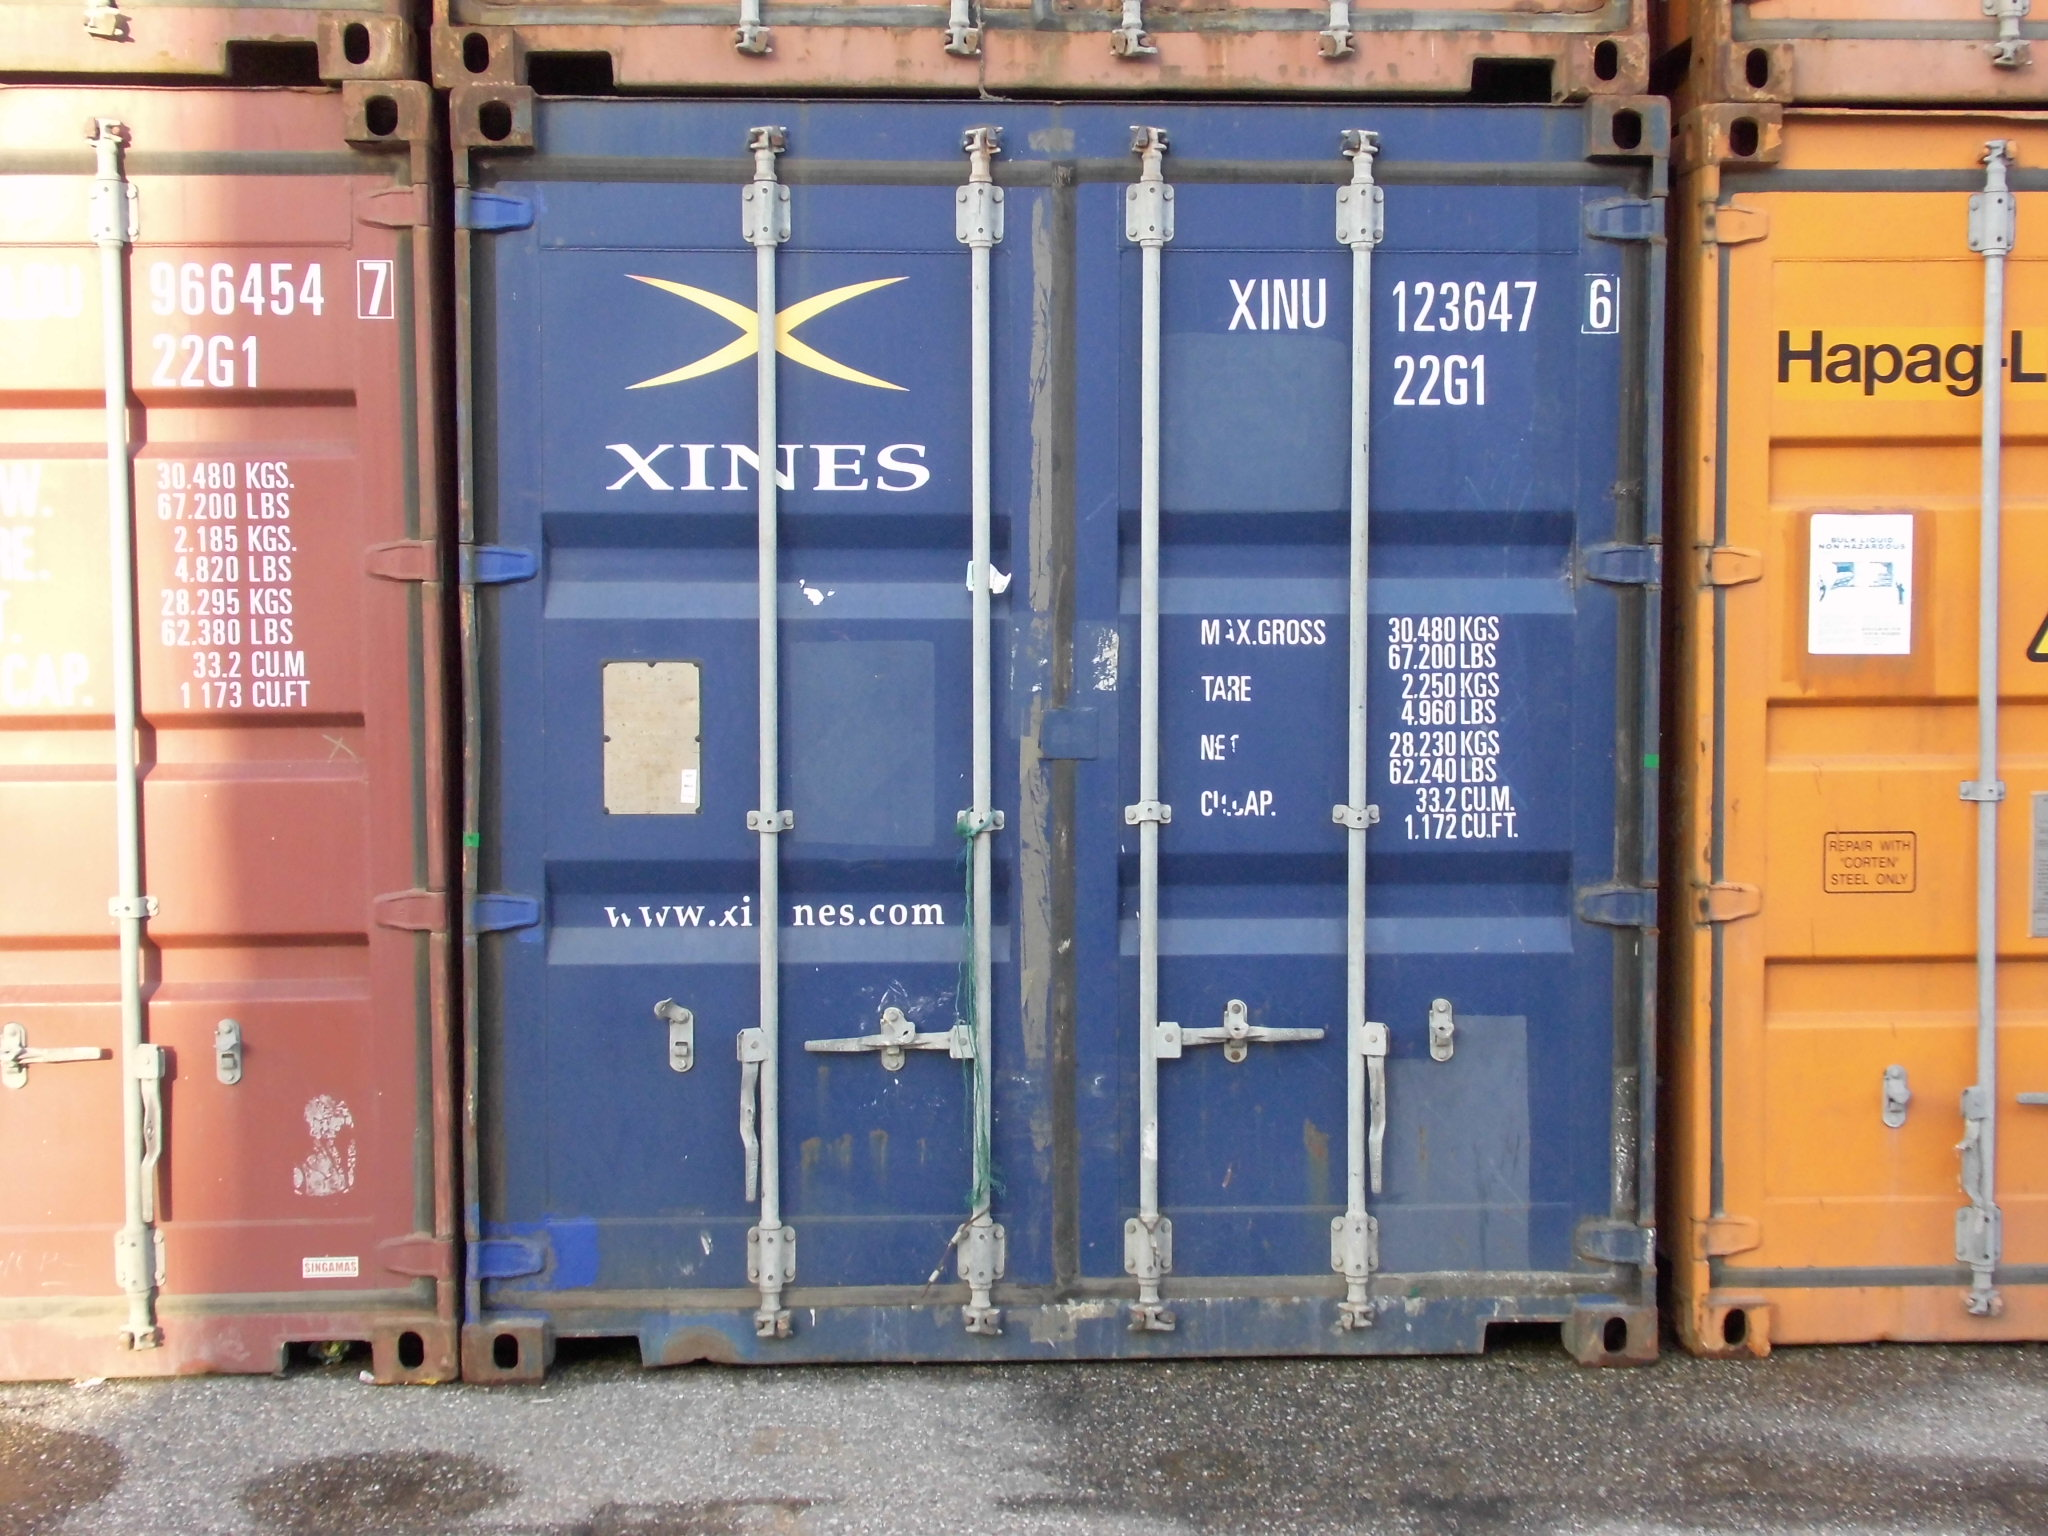container_door: (442, 74, 1679, 1375)
